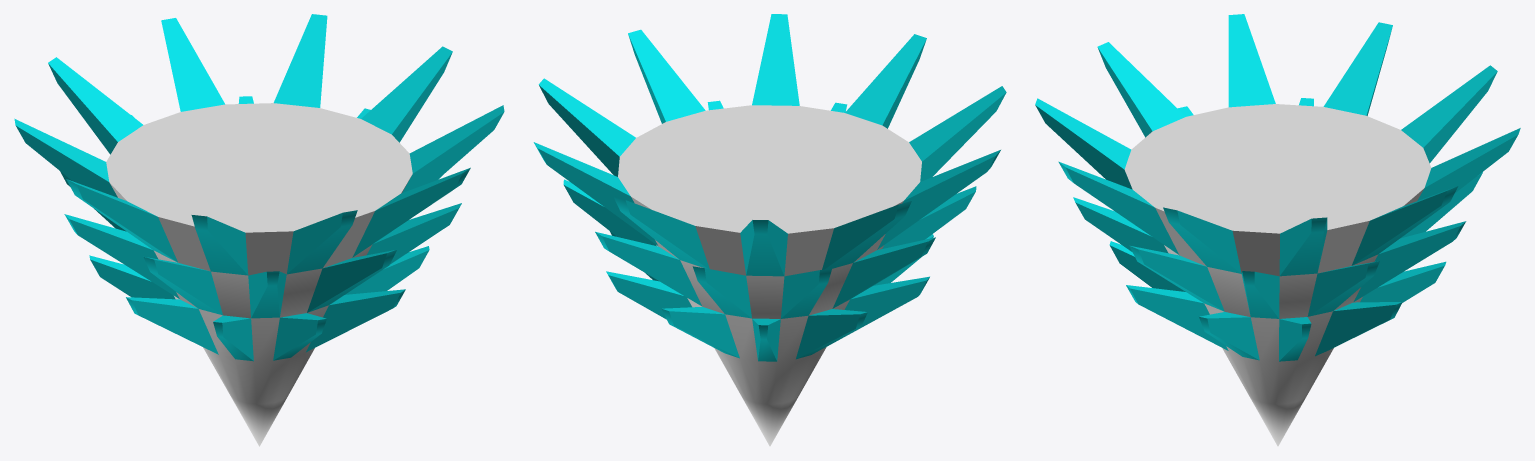
Rendered from virus_avg.fbx.
3 renders of one model, left to right at view 1: azimuth 30°, elevation 25°; view 2: azimuth 150°, elevation 25°; view 3: azimuth 270°, elevation 25°, orthographic.
Parts seen in each view (by area): view 1: virus_avg; view 2: virus_avg; view 3: virus_avg.
Boxes of the visible parts, left/top/right/bottom form: virus_avg: left=14, top=14, right=504, bottom=446; virus_avg: left=533, top=14, right=1006, bottom=446; virus_avg: left=1035, top=14, right=1520, bottom=446.
Bounding box in the file's own units: 2.33 × 1.75 × 2.34.
